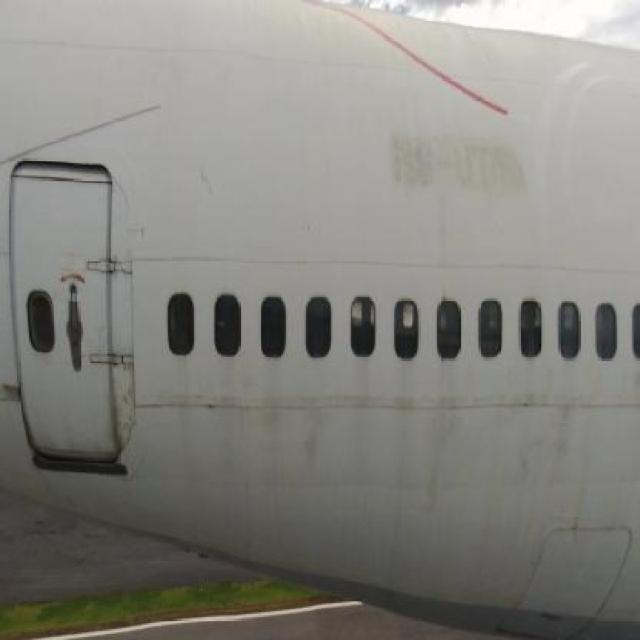Scartch: (512, 388, 596, 494), (424, 391, 464, 517), (299, 403, 341, 488), (108, 358, 144, 440), (191, 151, 227, 204)
